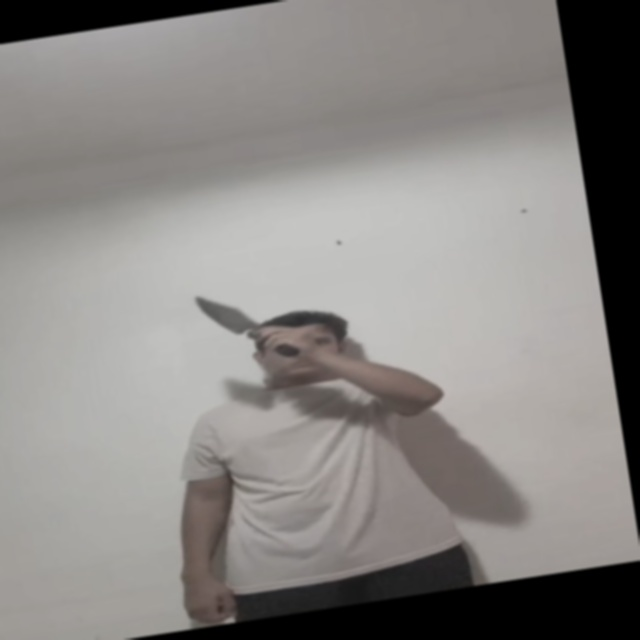Sharp-Object: (191, 288, 261, 340)
